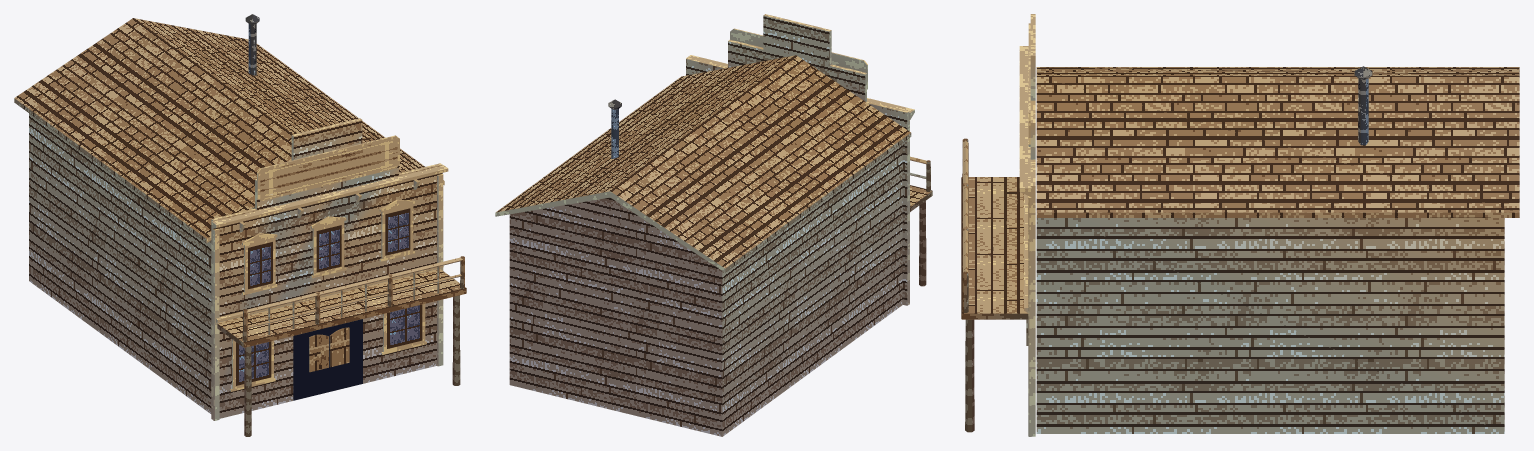
File: wtown.saloon__entry.glb
3 renders of one model, left to right at view 1: azimuth 30°, elevation 25°; view 2: azimuth 150°, elevation 25°; view 3: azimuth 270°, elevation 25°, orthographic. The views are drawn at different scales.
Parts seen in each view (by area): view 1: kit_roof, kit_body, kit_front, kit_card_panes, kit_balcony, kit_trim, kit_windows, kit_door, kit_stovepipe; view 2: kit_body, kit_roof, kit_front, kit_trim, kit_balcony, kit_stovepipe; view 3: kit_body, kit_roof, kit_balcony, kit_trim, kit_front, kit_stovepipe.
Boxes of the visible parts, x1,y1,x2,y2 form: kit_roof: (14, 18, 444, 242); kit_body: (29, 113, 399, 413); kit_front: (211, 118, 442, 419); kit_card_panes: (236, 138, 422, 400); kit_balcony: (217, 256, 466, 436); kit_trim: (211, 135, 448, 420); kit_windows: (230, 199, 426, 391); kit_door: (309, 327, 349, 372); kit_stovepipe: (245, 14, 259, 75); kit_body: (509, 143, 902, 436); kit_roof: (495, 55, 911, 272); kit_front: (686, 14, 909, 305); kit_trim: (686, 28, 914, 304); kit_balcony: (910, 156, 932, 286); kit_stovepipe: (608, 99, 621, 158); kit_body: (1036, 218, 1504, 433); kit_roof: (1036, 67, 1519, 217); kit_balcony: (961, 138, 1028, 432); kit_trim: (1019, 23, 1031, 436); kit_front: (1030, 14, 1035, 436); kit_stovepipe: (1354, 66, 1372, 145).
Bounding box in the file's own units: 8.1 × 8.7 × 13.12.
12 materials, 12 textured.
